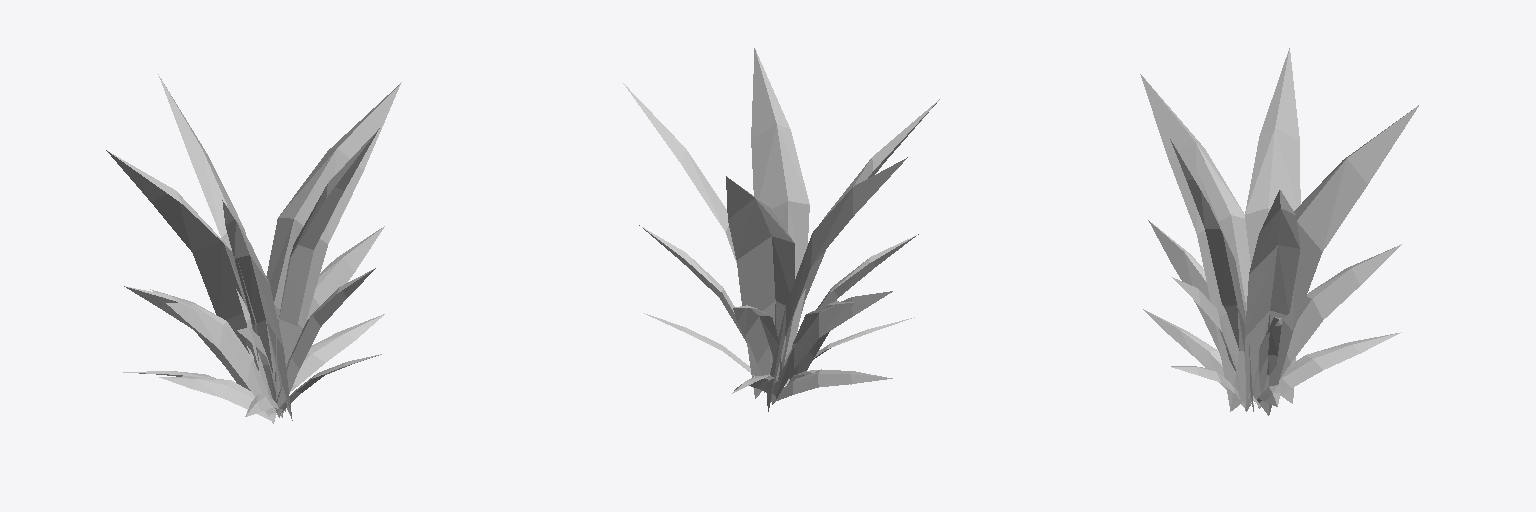
The model's file is bosje.obj.
3 renders of one model, left to right at view 1: azimuth 30°, elevation 25°; view 2: azimuth 150°, elevation 25°; view 3: azimuth 270°, elevation 25°, orthographic.
Parts seen in each view (by area): view 1: bosje:polySurface1; view 2: bosje:polySurface1; view 3: bosje:polySurface1.
Boxes of the visible parts, x1,y1,x2,y2 form: bosje:polySurface1: [106, 74, 401, 423]; bosje:polySurface1: [623, 48, 939, 411]; bosje:polySurface1: [1140, 48, 1418, 415].
Bounding box in the file's own units: 6.35 × 6.33 × 5.3.